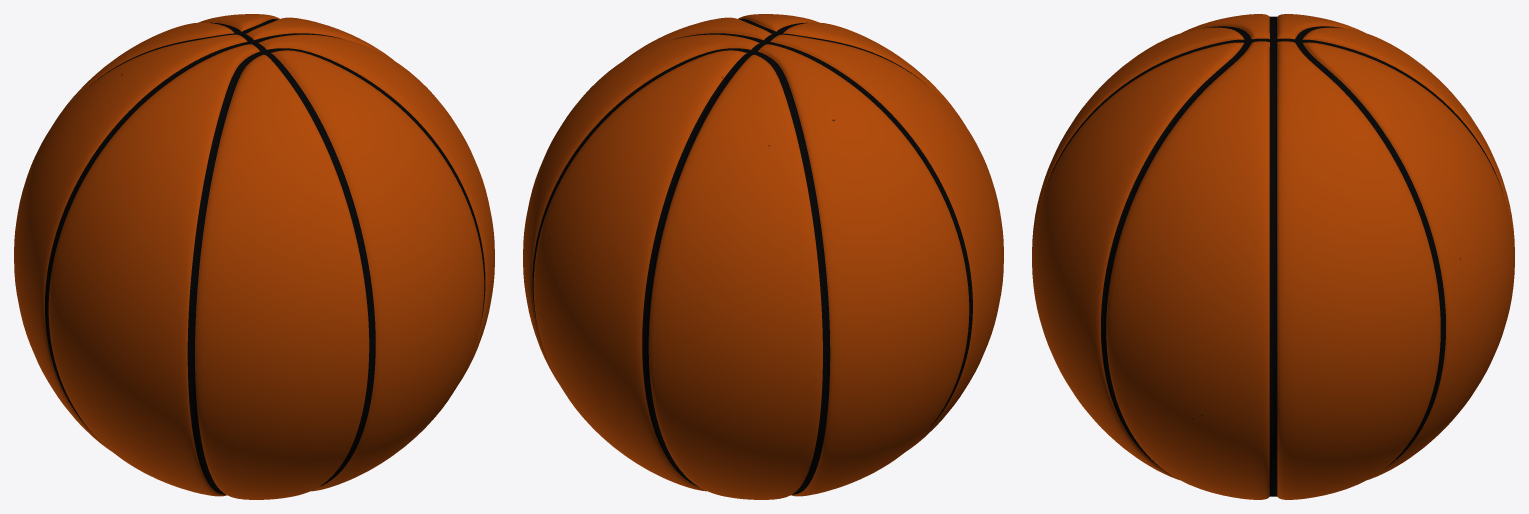
Rendered from item0.fbx.
3 views of the same model, side by side, from view 1: azimuth 30°, elevation 25°; view 2: azimuth 150°, elevation 25°; view 3: azimuth 270°, elevation 25° (orthographic).
Parts seen in each view (by area): view 1: Item0; view 2: Item0; view 3: Item0.
Boxes of the visible parts, box(x1,y1,x2,y2) form: Item0: box(14, 14, 494, 499); Item0: box(523, 14, 1003, 499); Item0: box(1032, 14, 1514, 499).
Size of the model in its own units: 193 by 194 by 193.
1 material, 1 textured.
